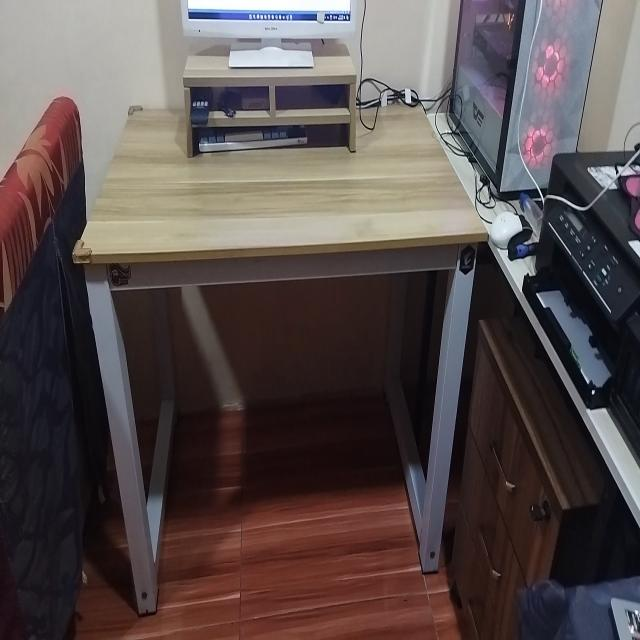table: (72, 88, 483, 610)
